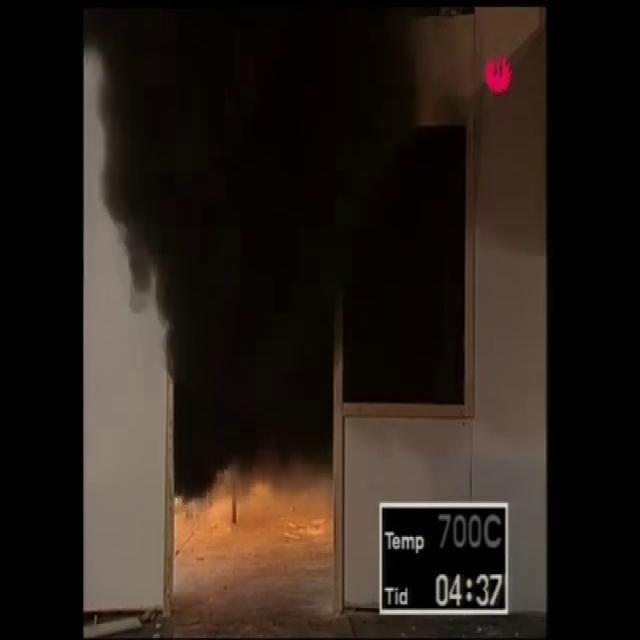Smoke: (176, 18, 346, 568)
